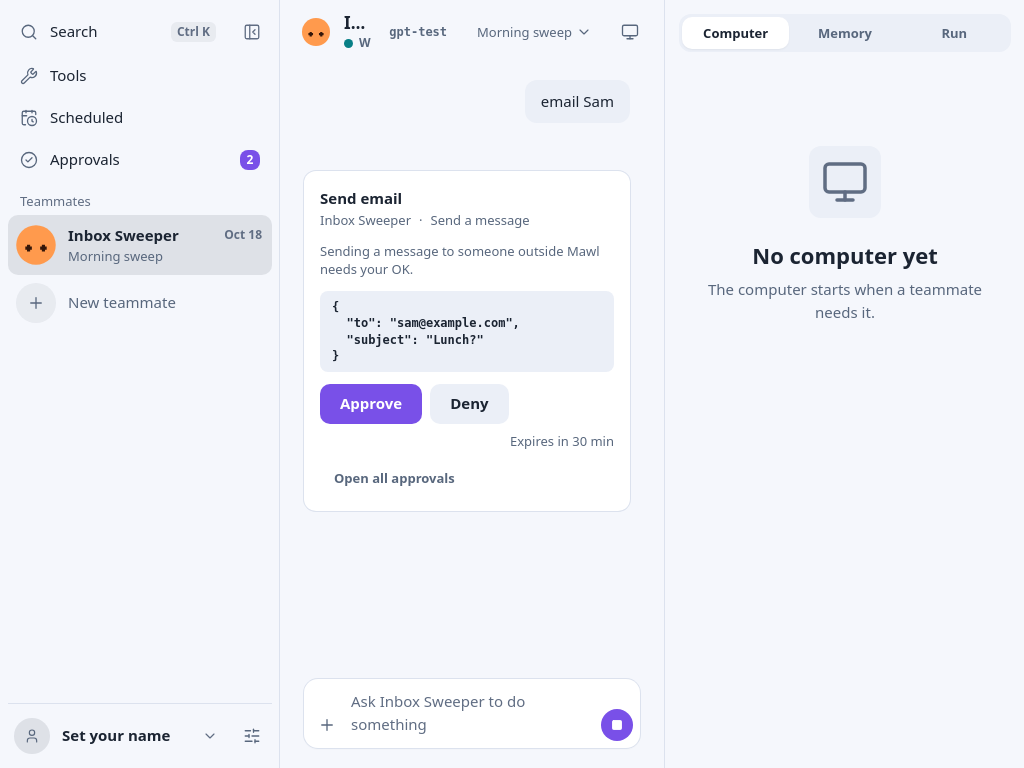
Test: approval card in the chat › approves with the right ids and keeps showing the result while the run continues
Click the button "Approve" at (371, 404), box [320,384,422,424]
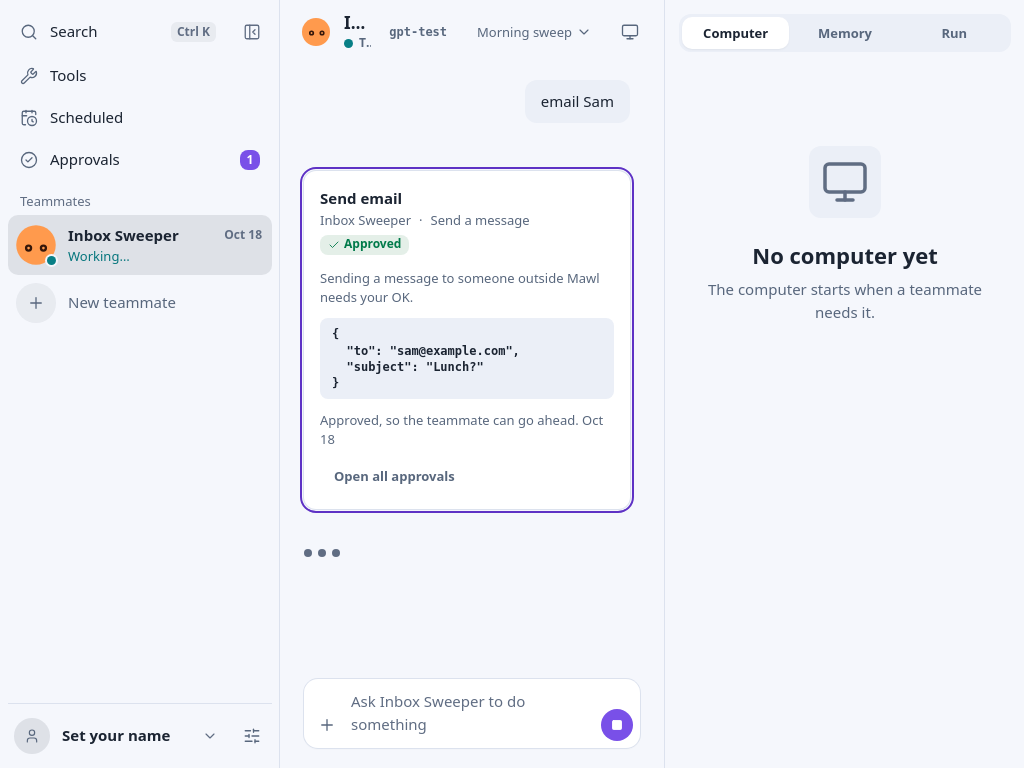
Check: the text "Approved" is shown, box [320,234,409,254]
